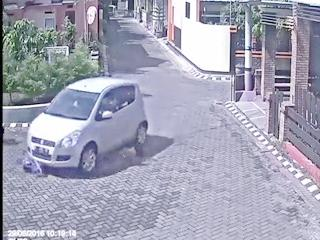Car: (26, 79, 151, 169)
Minor Accident: (11, 72, 154, 179)
Motor: (15, 151, 50, 175)
